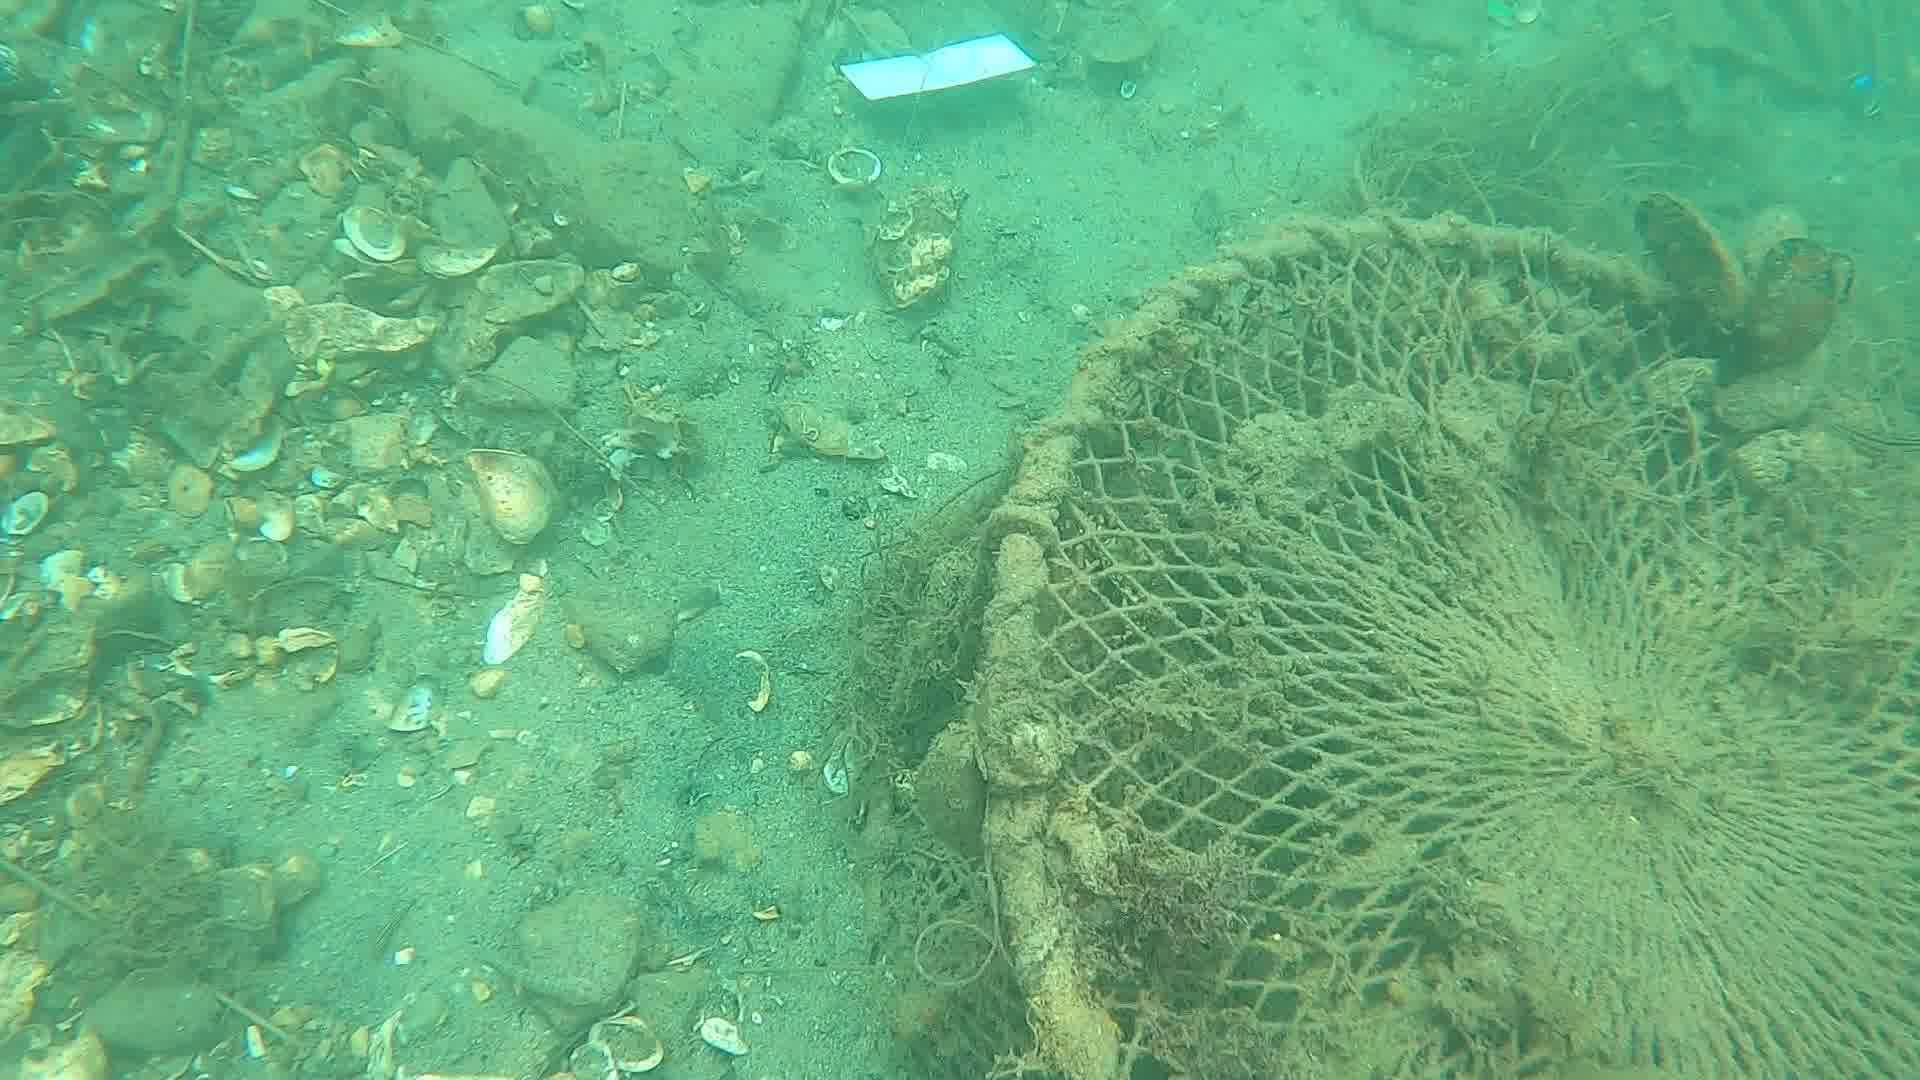circular fish trap: (975, 204, 1920, 1080)
